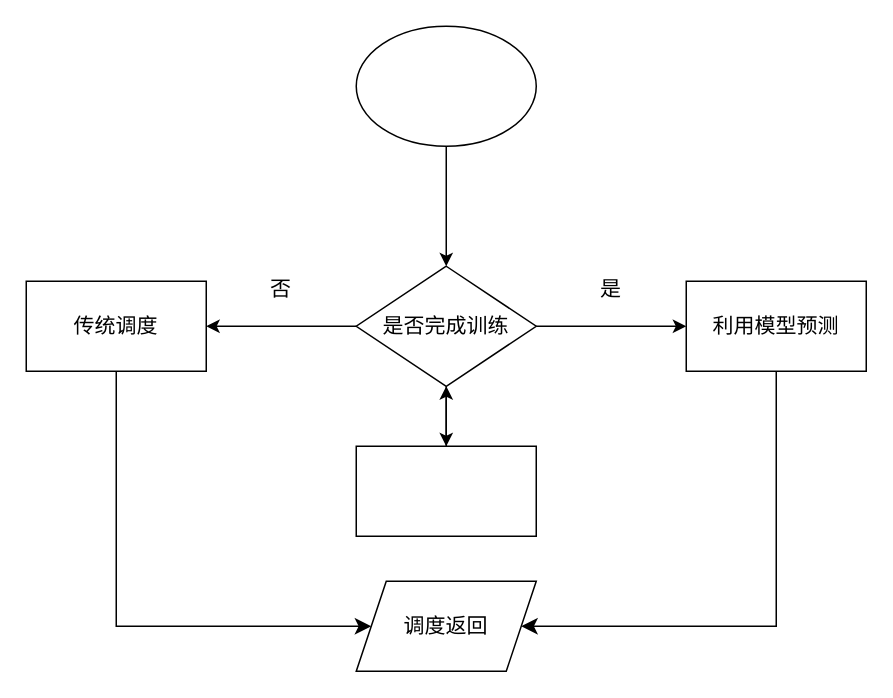
Image size: 893x698. Some labels were removed from this diagram. The centre of each missing label's shape, as x and y in pixels:
"模型训练" goes at (x=445, y=490).
"调度程序" goes at (x=445, y=85).
